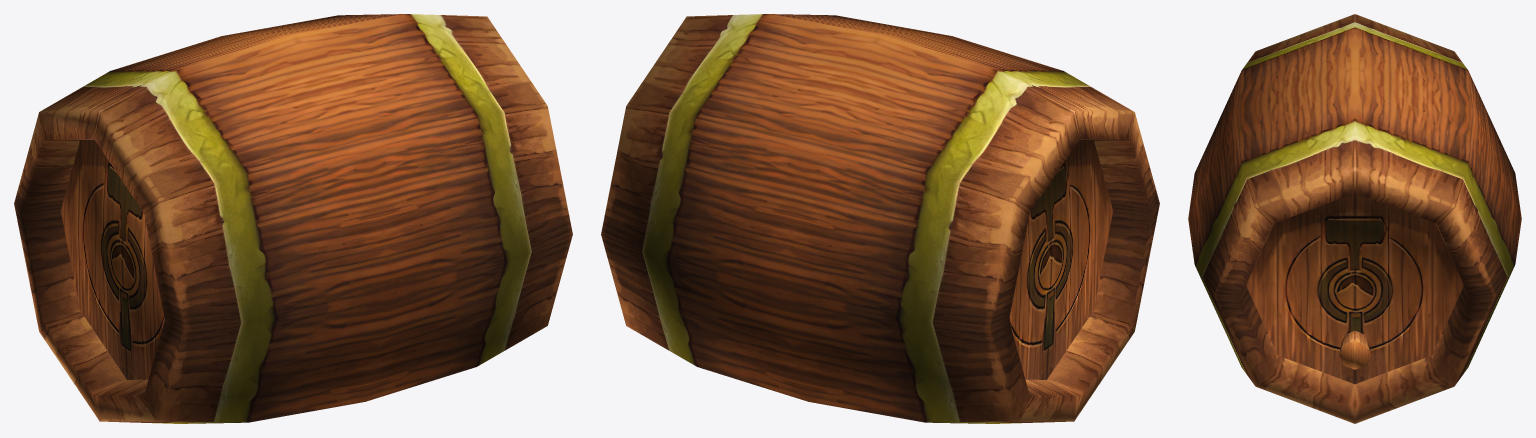
The model's file is alekegsingle.obj.
The picture shows the model from 3 angles, left to right: view 1: azimuth 30°, elevation 25°; view 2: azimuth 150°, elevation 25°; view 3: azimuth 270°, elevation 25°; orthographic projection. The views are drawn at different scales.
Parts seen in each view (by area): view 1: alekegsingle; view 2: alekegsingle; view 3: alekegsingle.
Boxes of the visible parts, x1,y1,x2,y2 form: alekegsingle: (14,14,572,423); alekegsingle: (601,14,1159,423); alekegsingle: (1188,14,1521,423).
Bounding box in the file's own units: 2.01 × 1.77 × 1.77.
1 material, 1 textured.
